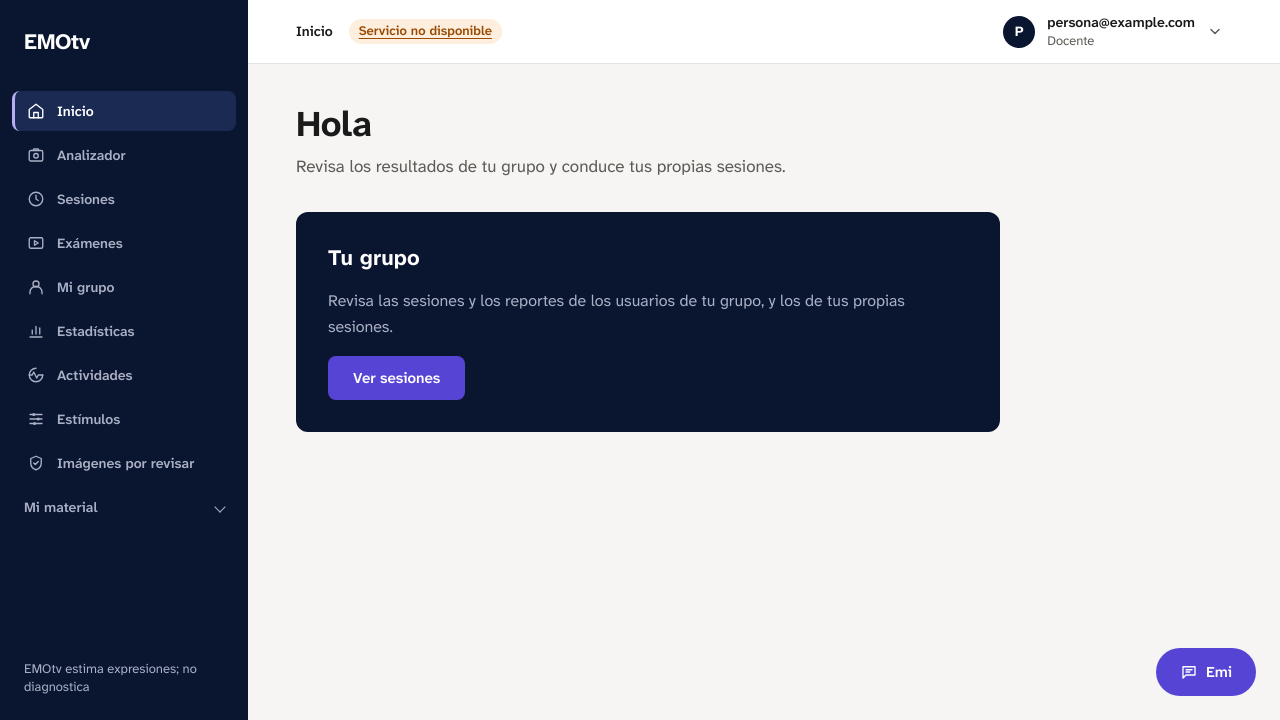
Test: recorridos principales por rol › lleva al docente de su grupo a las sesiones de un usuario
What coordinates should you click on to do the following:
click the link "Mi grupo"
I would click on:
 (71, 287)
Its box is [27,278,115,296].
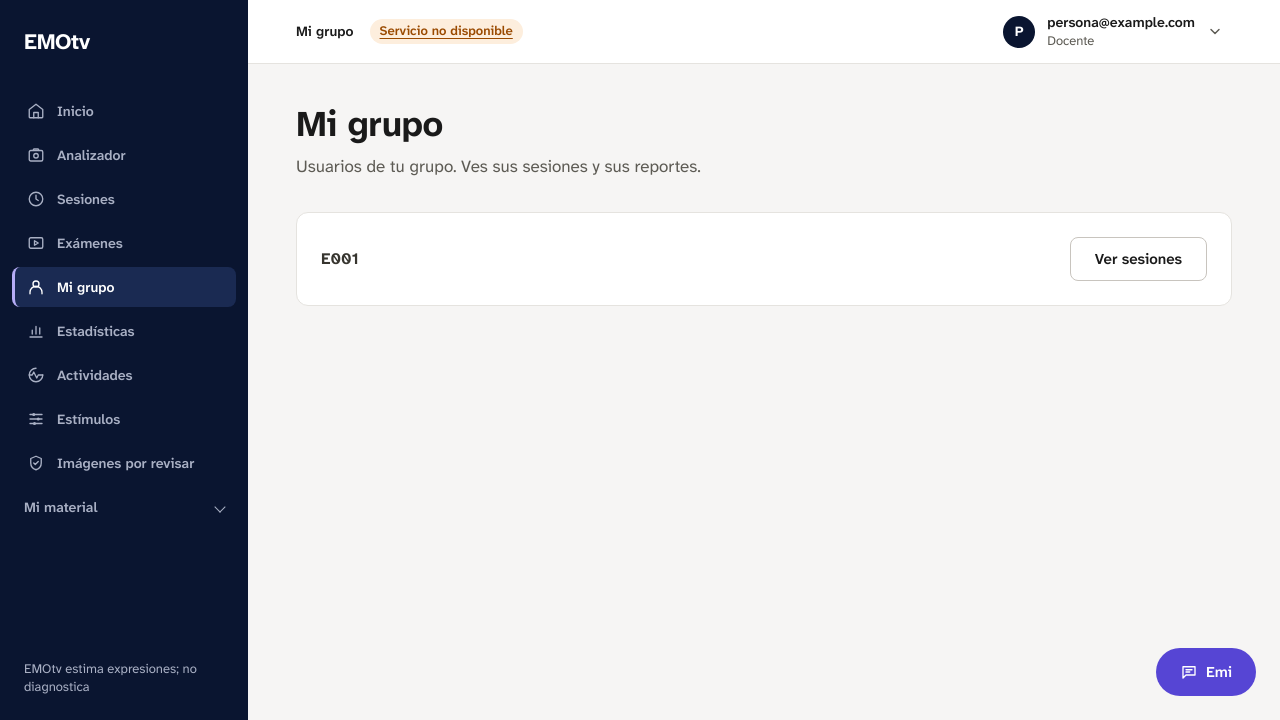
Result: the heading "Mi grupo" is shown at [296,101,443,147]
What coordinates should you click on to do the following:
click the link named "E001"
I would click on:
 (1138, 259)
Its box is [1070,237,1207,281].
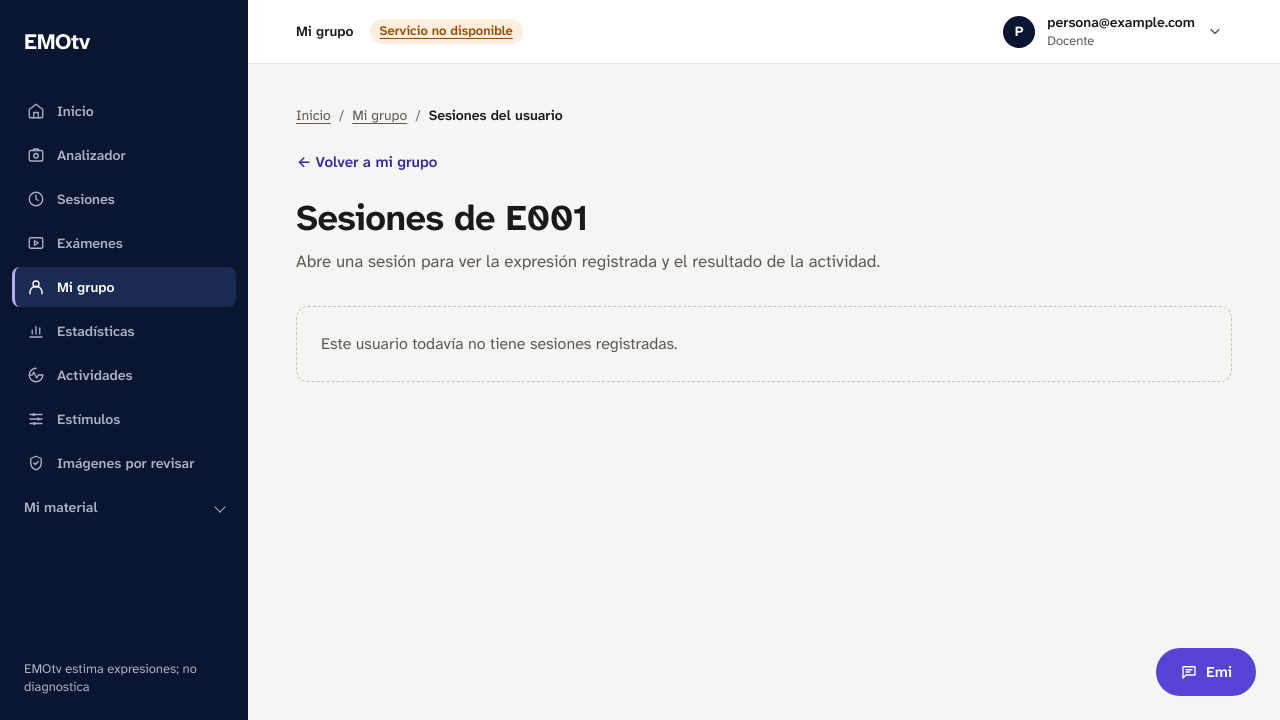
Result: the heading "Sesiones de E001" is shown at [296,195,588,241]
